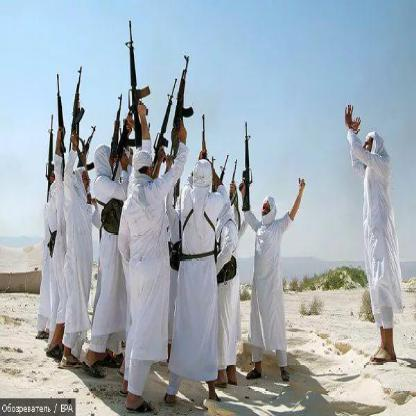rifle: (125, 19, 152, 144), (150, 75, 180, 170), (172, 54, 196, 146), (69, 65, 88, 152), (52, 72, 70, 154), (108, 92, 125, 172), (239, 121, 253, 214), (44, 113, 58, 192)
